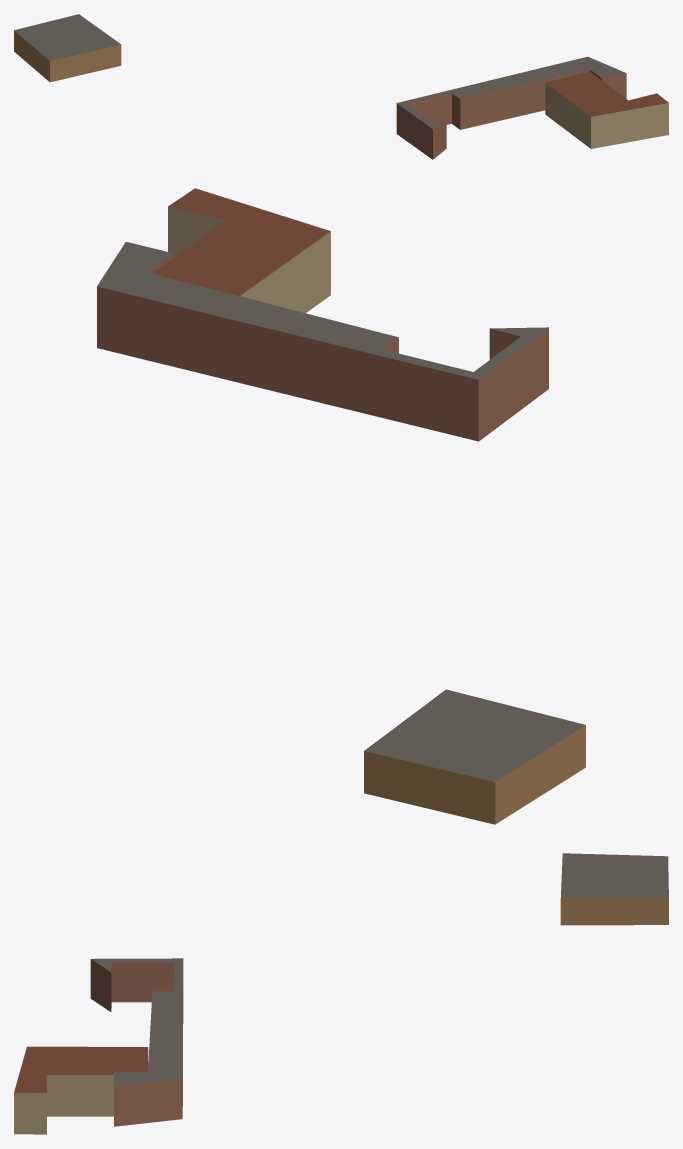
The model's file is SM_Fondale_Citta_Colle_02_LOD2.fbx.
3 views of the same model, one above another, from view 1: azimuth 30°, elevation 25°; view 2: azimuth 150°, elevation 25°; view 3: azimuth 270°, elevation 25° (orthographic). The views are drawn at different scales.
Visible parts, largest first — view 1: SM_Fondale_Citta_Colle_02_LOD2; view 2: SM_Fondale_Citta_Colle_02_LOD2; view 3: SM_Fondale_Citta_Colle_02_LOD2.
Part boxes in pixels (x1,y1,x2,y2): SM_Fondale_Citta_Colle_02_LOD2: (14, 14, 668, 159); SM_Fondale_Citta_Colle_02_LOD2: (97, 188, 585, 824); SM_Fondale_Citta_Colle_02_LOD2: (14, 853, 668, 1134).
Bounding box in the file's own units: 21374 × 22934 × 1886.
